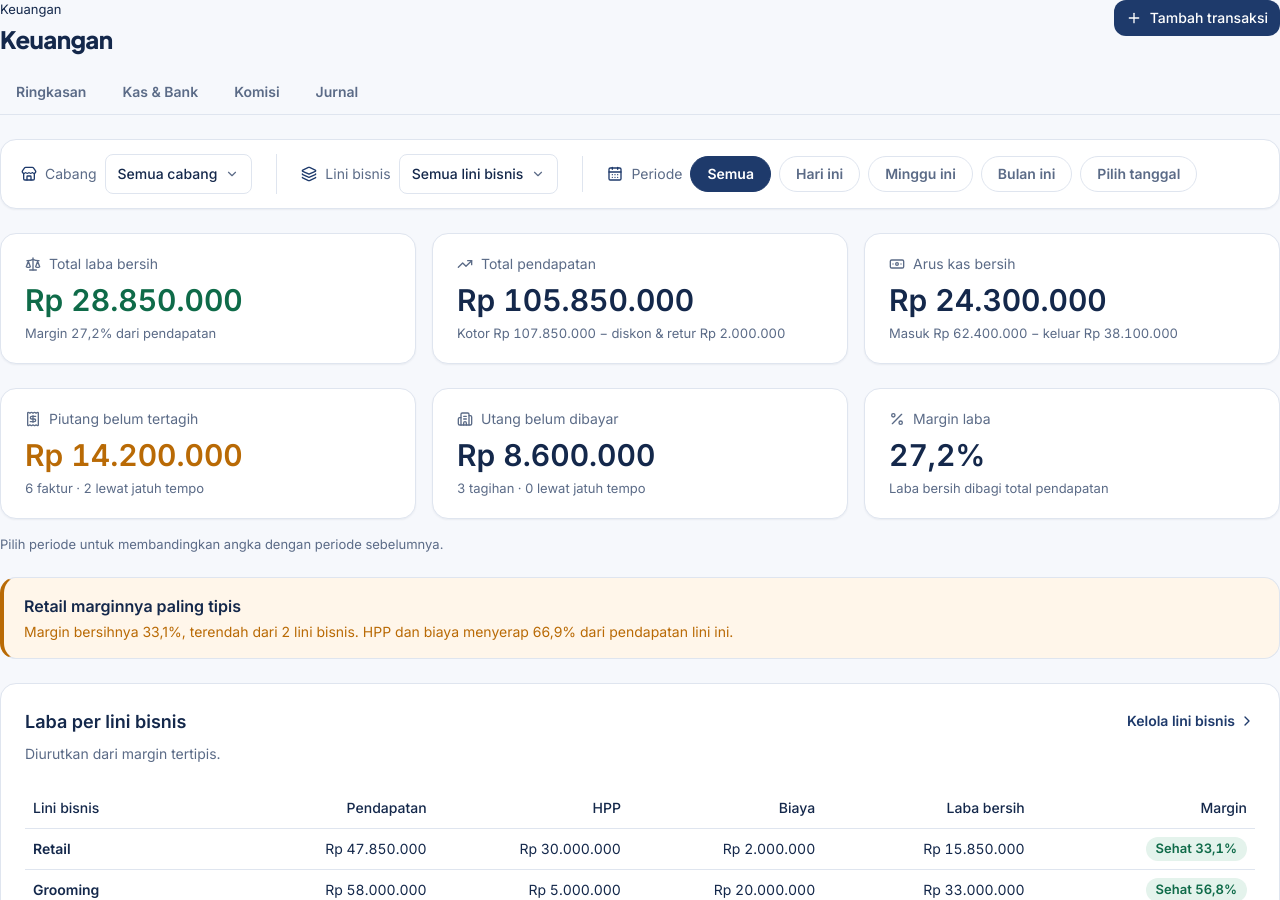
Test: FinanceDashboardScreen › chips a custom range, which no pill can show
This screenshot has width=1280, height=900.
Click the button "Pilih tanggal" at (1139, 174), box 1080,156 -> 1197,192
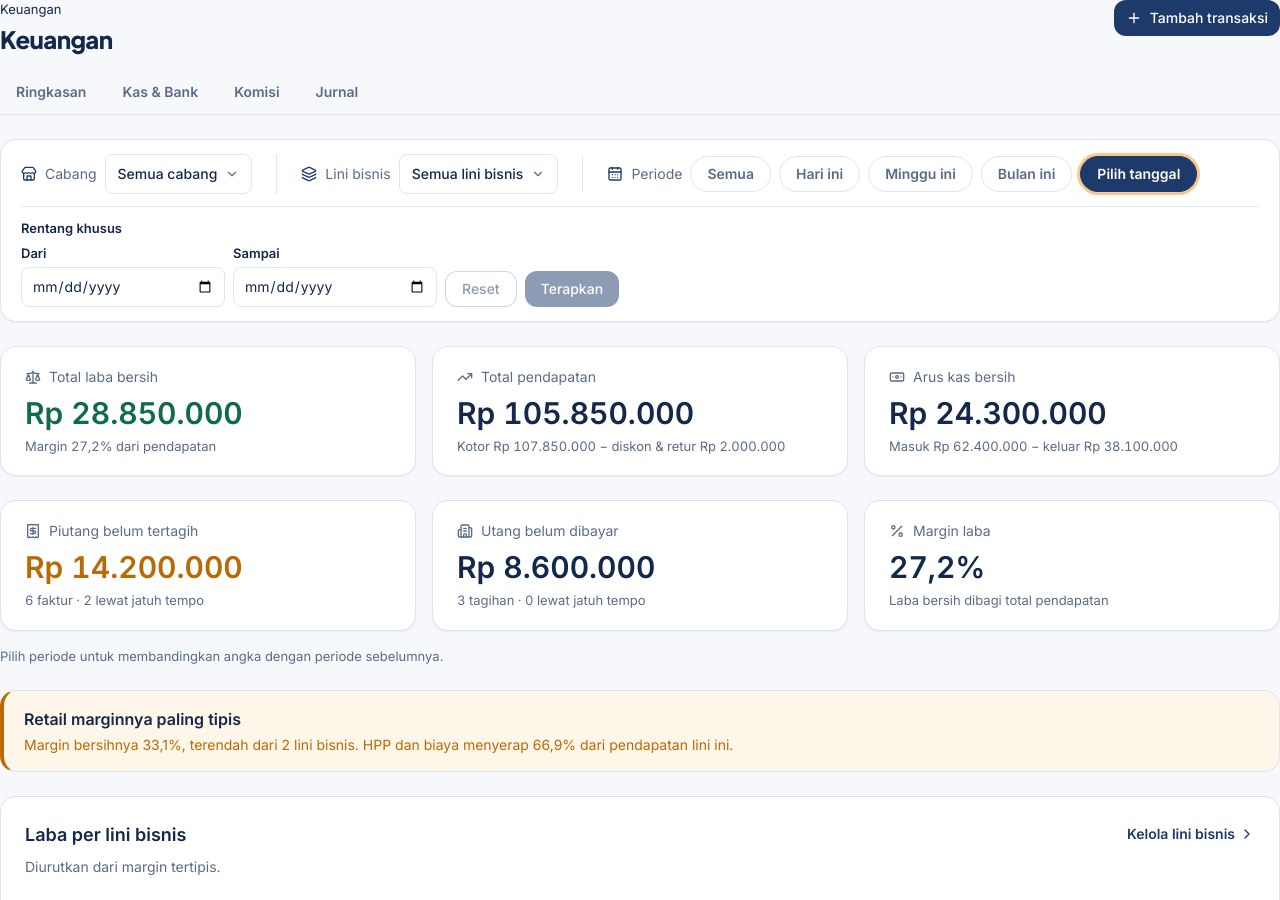
Type "2026-07-01" into the date field named "Periode khusus dari" at (123, 286), box 21,266 -> 225,306
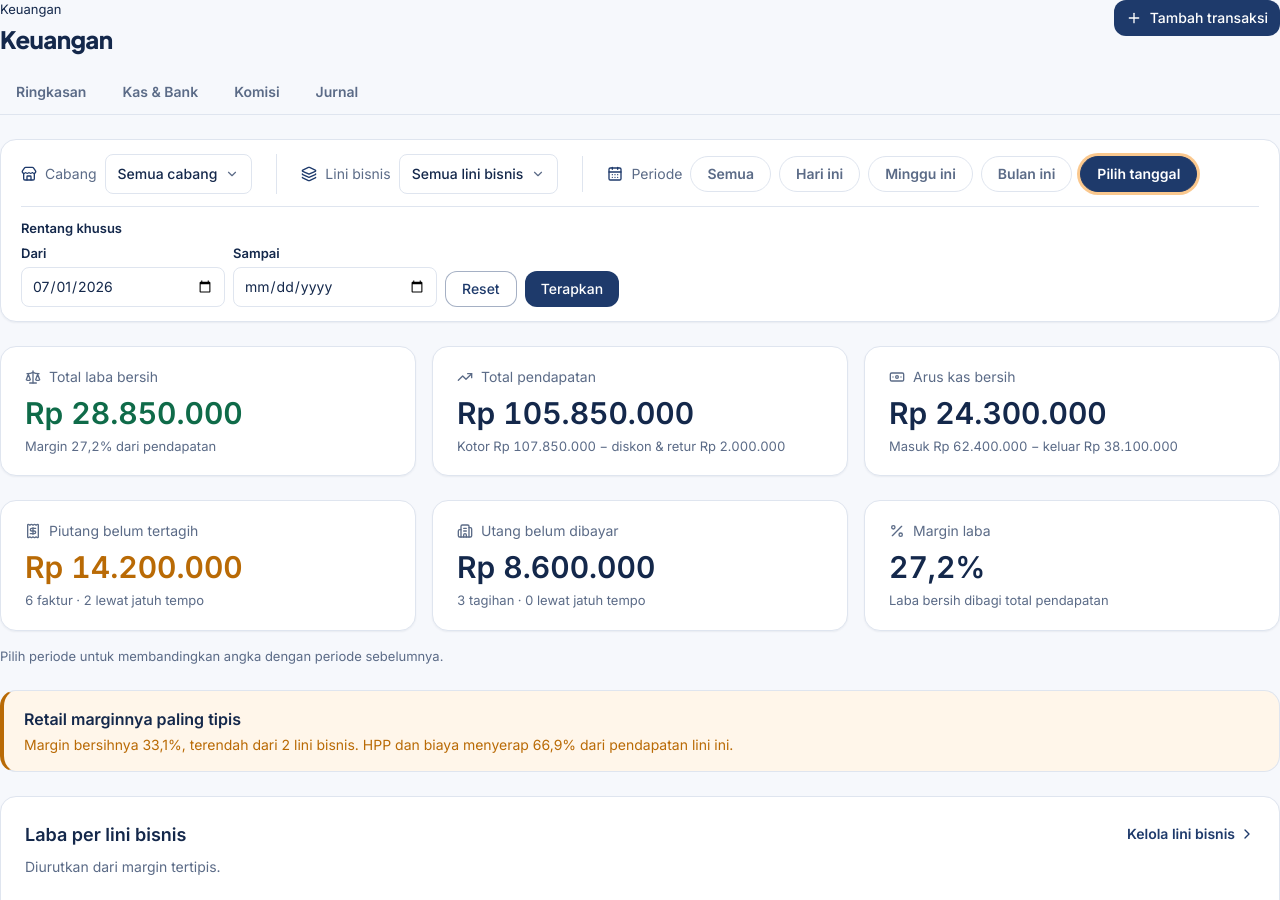
Type "2026-07-31" into the date field named "Periode khusus sampai" at (335, 286), box 233,266 -> 437,306
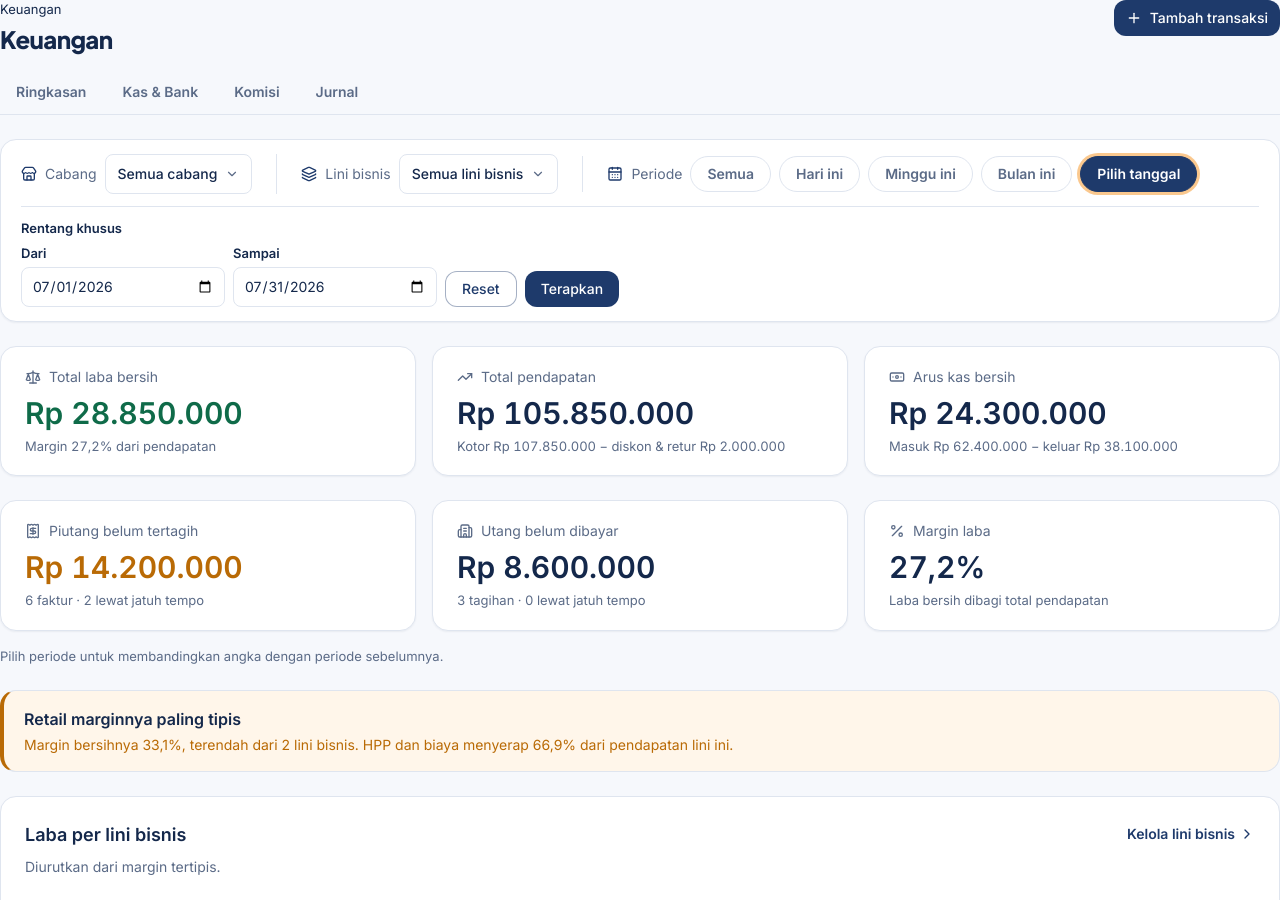
Click the button "Terapkan" at (572, 288), box 525,270 -> 619,306
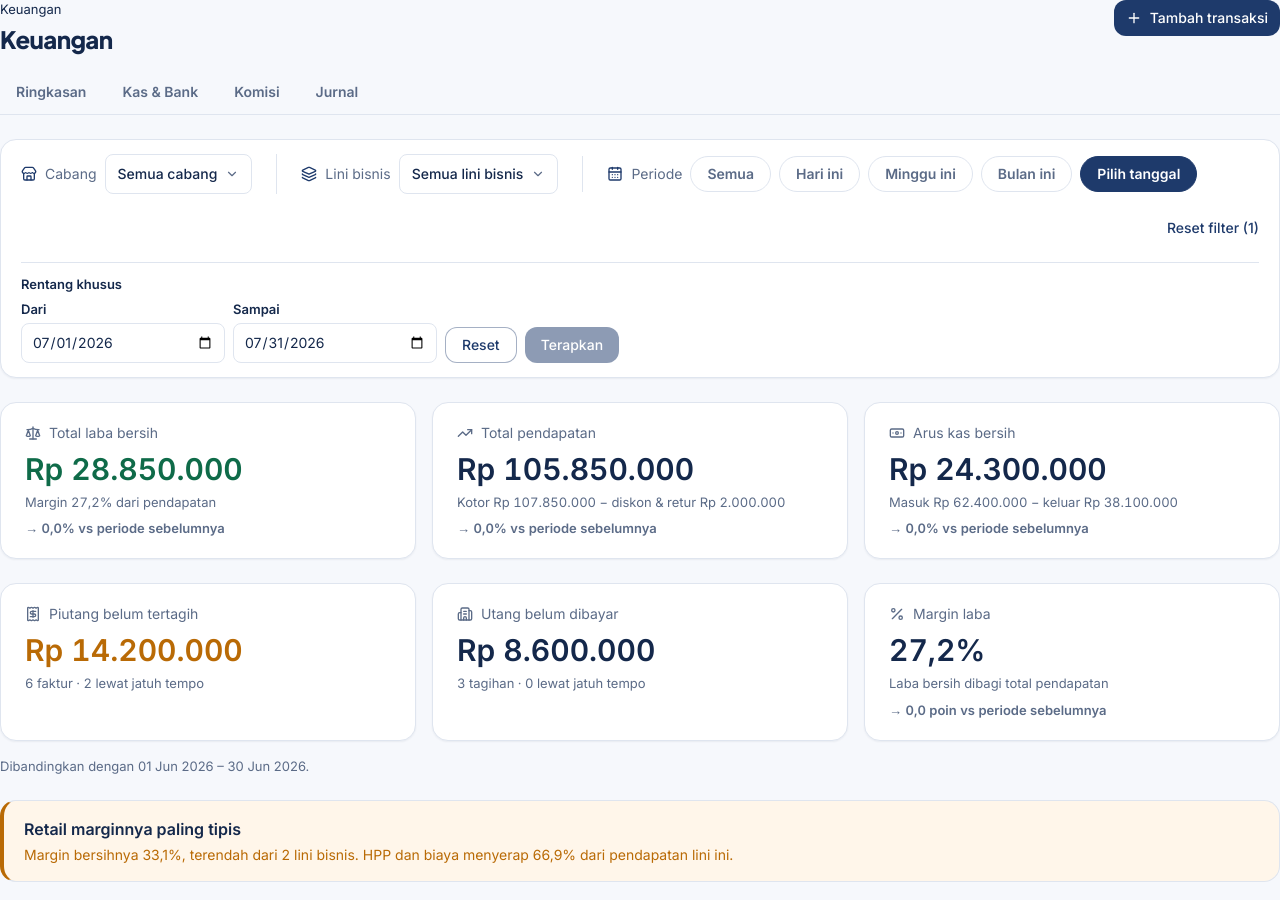
Now the date field named "Periode khusus dari" holds "2026-07-01", box 21,322 -> 225,362
Now the button "Reset filter (1)" is shown, box 1167,206 -> 1259,250
